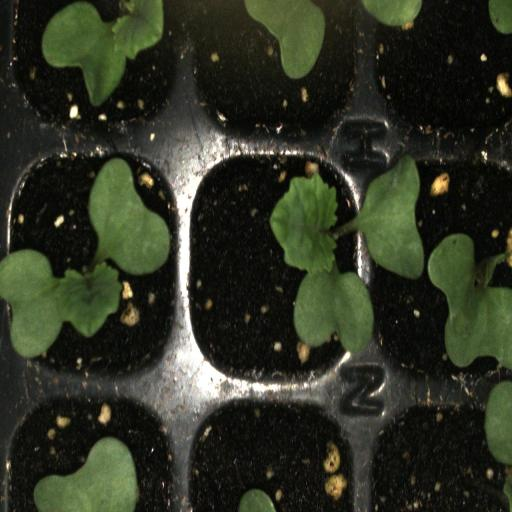Folha: (345, 154, 512, 371), (33, 436, 139, 512), (244, 0, 328, 80), (354, 0, 423, 28)
Germinacao: (5, 140, 189, 387), (188, 143, 367, 391), (9, 0, 188, 140)
